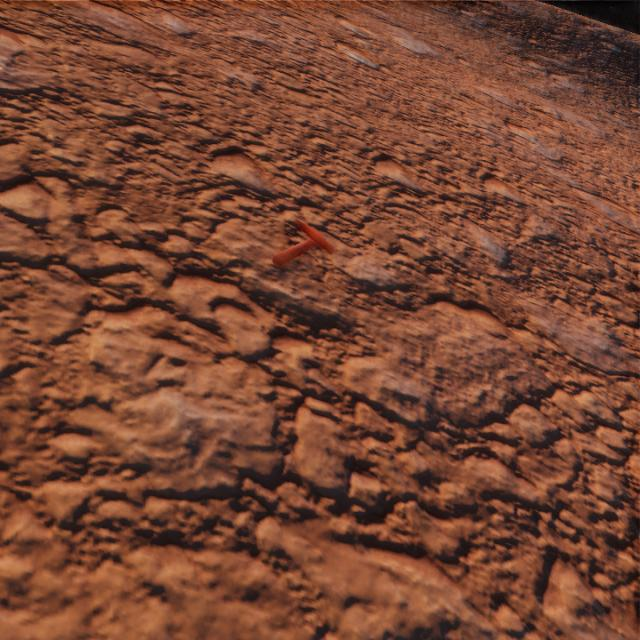newhammer: (272, 218, 334, 268)
